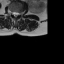CCS_normal: (14, 10, 16, 18)
LFS_normal: (18, 11, 21, 15)
LLS_normal: (16, 11, 18, 16)
RFS_normal: (10, 10, 12, 16)
RLS_normal: (12, 10, 14, 16)
